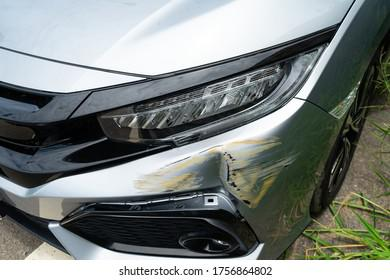front-bumper-dent: (18, 132, 323, 251)
